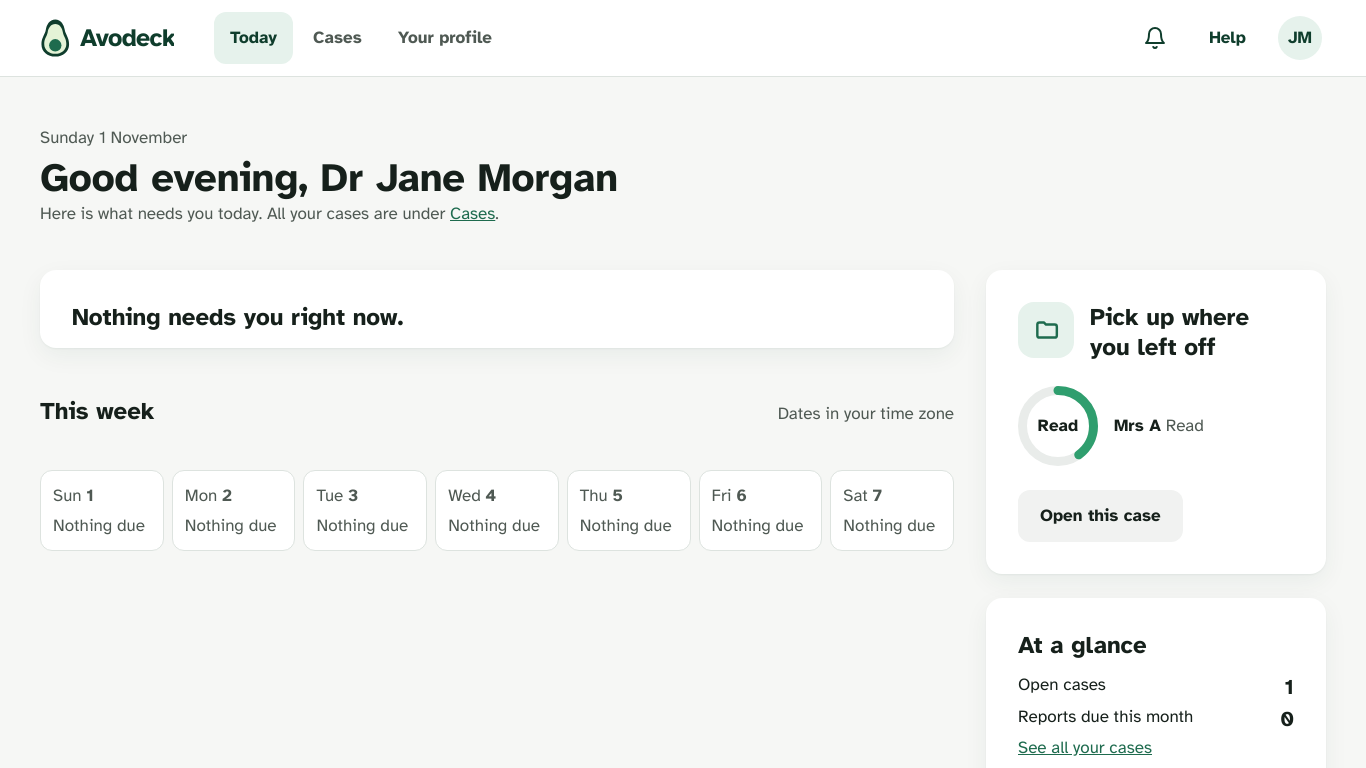
Scenario: Cases and Help are in the header, and Help opens the Help page
Step 1. Click the link "Help" → (1228, 38), box top-left (1209, 27), bottom-right (1246, 48)
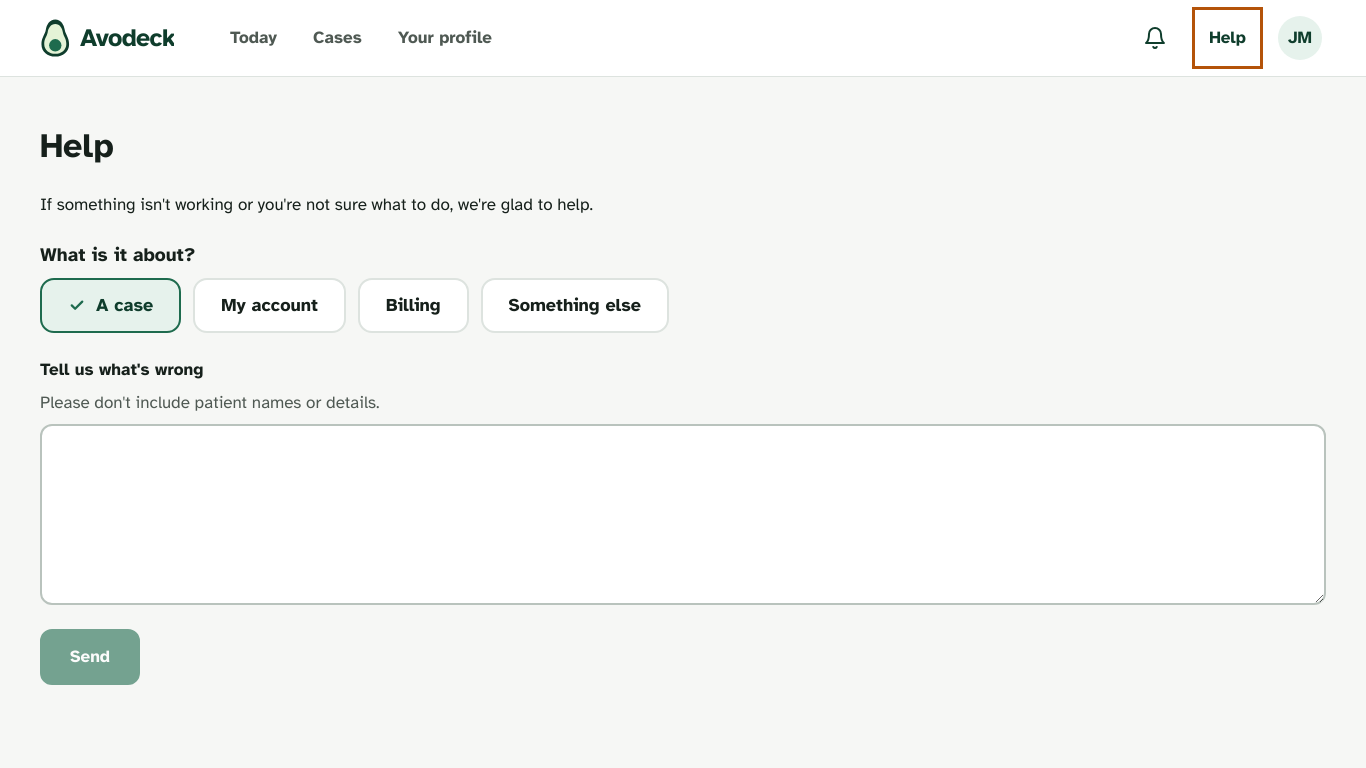
Check: the heading "Help" is shown, box top-left (40, 125), bottom-right (114, 167)
